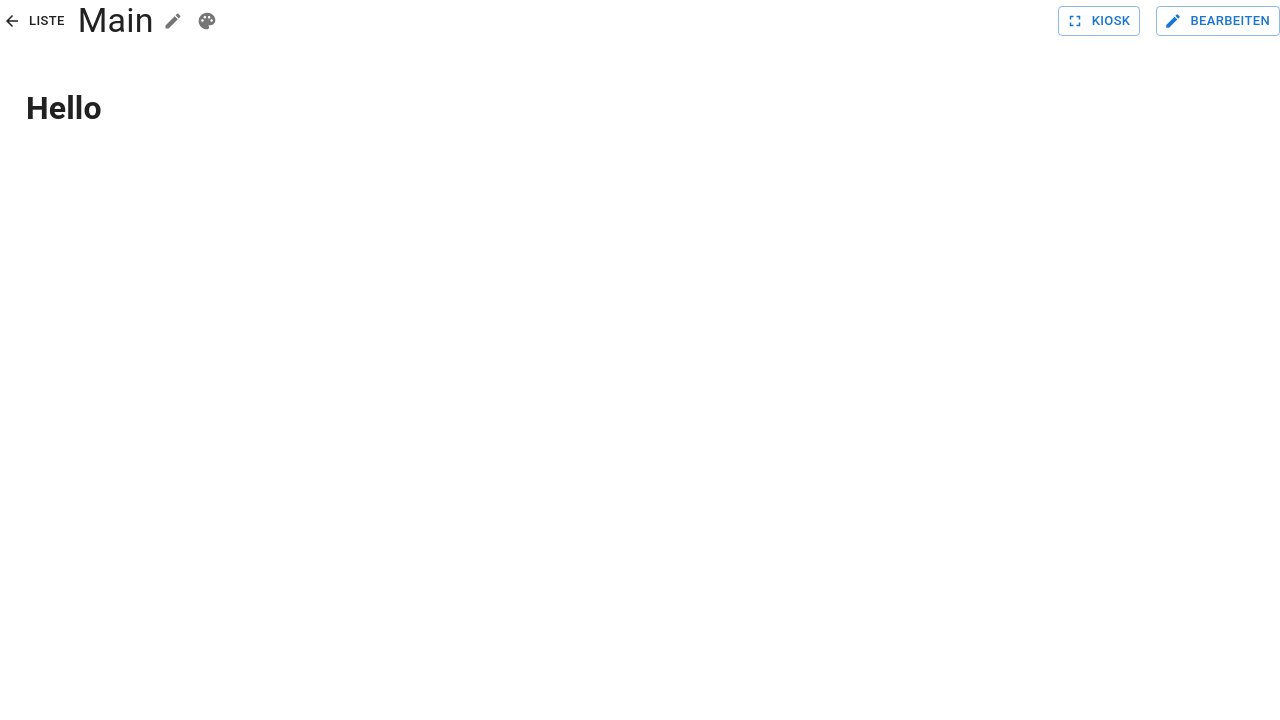
Scenario: DashboardPage › opens a confirm dialog when widget delete is clicked
The width and height of the screenshot is (1280, 720).
What coordinates should you click on to do the following:
click the button "Bearbeiten"
I would click on:
 (1218, 21)
Its box is [1156,6,1279,36].
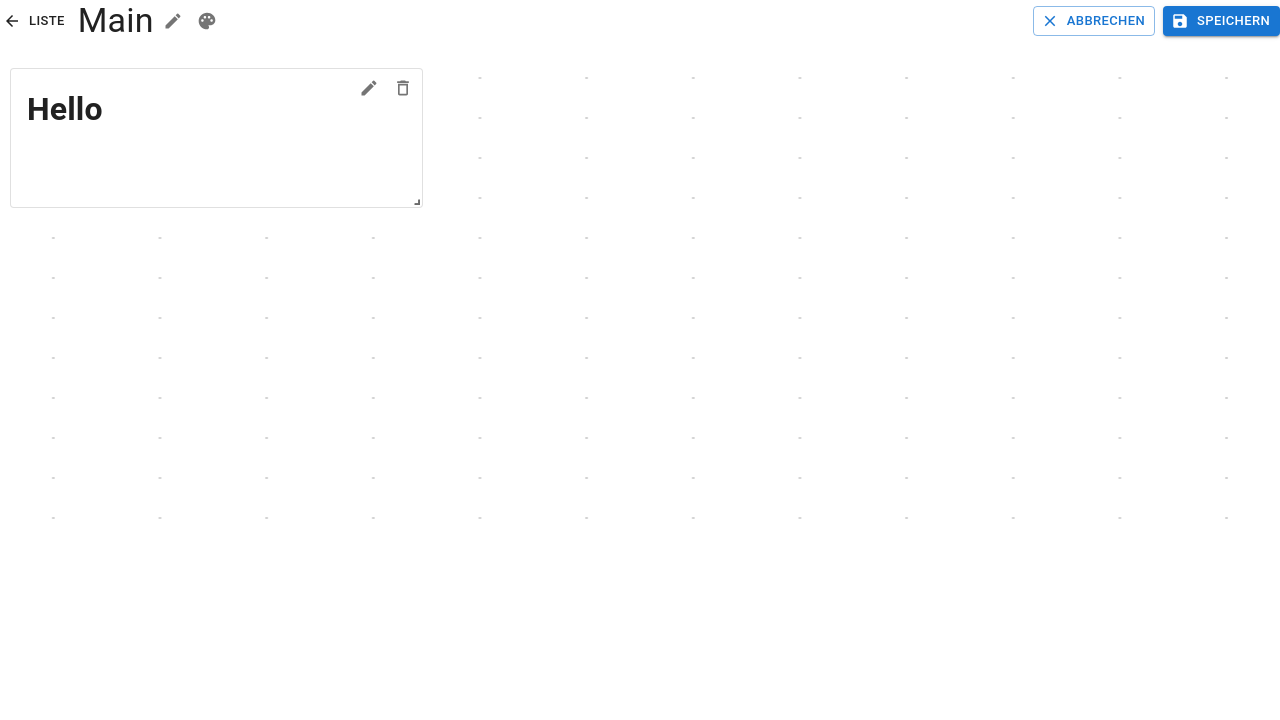
Expected: the button named "Textbox löschen" is shown
# Trash-Icon → Confirm-Dialog
What coordinates should you click on to do the following:
click the button named "Textbox löschen"
I would click on:
 (403, 88)
Its box is [388,73,418,103].
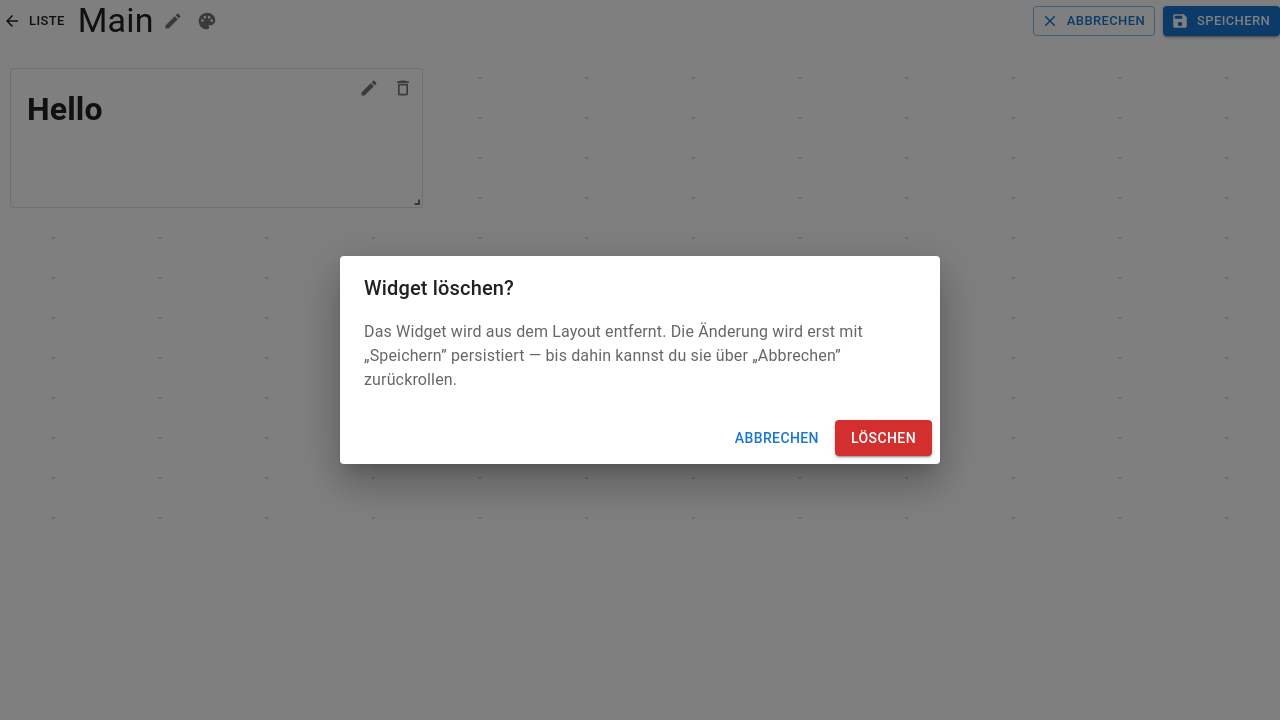
Expected: the heading "Widget löschen?" is shown, [364,276,514,300]
